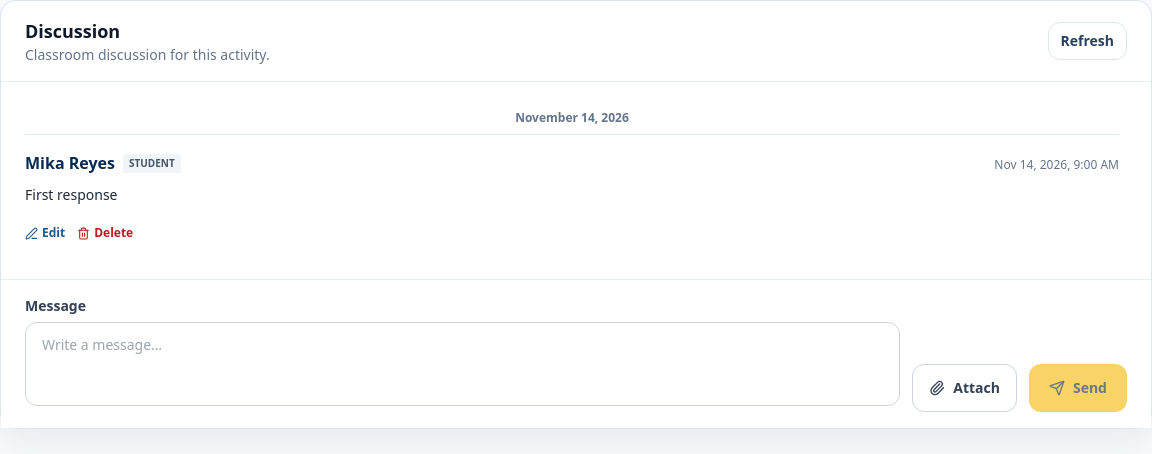
ActivityDiscussion › updates and removes messages only after the API confirms each action
Check: the text "First response" is shown, box [25,185,118,204]
Step 1. Click the button "Edit" → [45, 233], box [25,215,65,251]
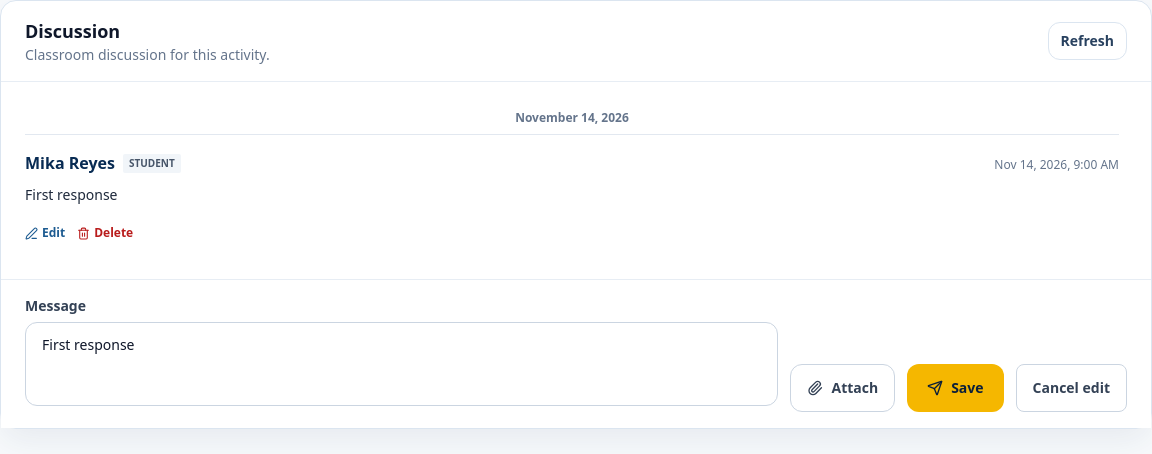
Step 2. Replace the text in the text box labelled "Message" with "Edited response" → [402, 364], box [25,322,778,406]
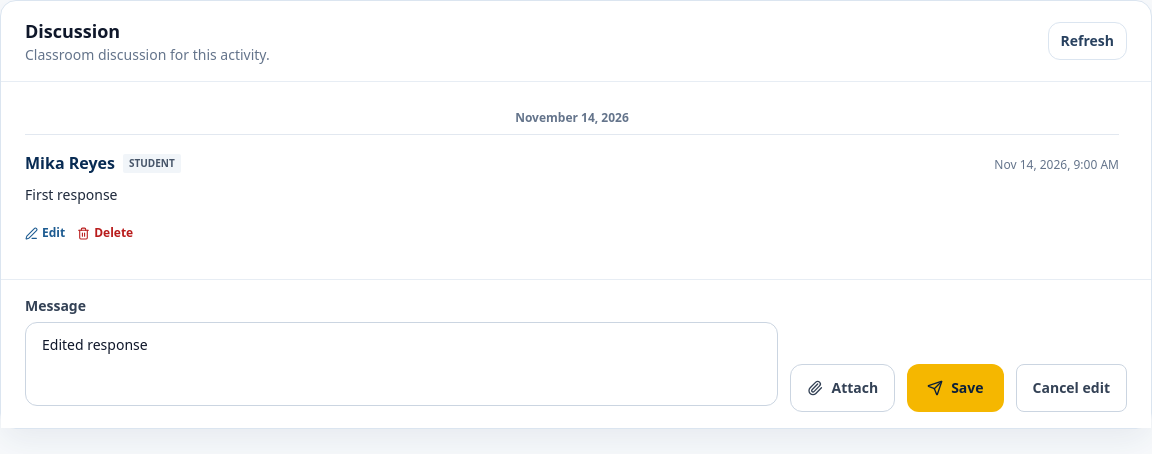
Step 3. Click the button "Save" → [955, 388], box [907,364,1004,412]
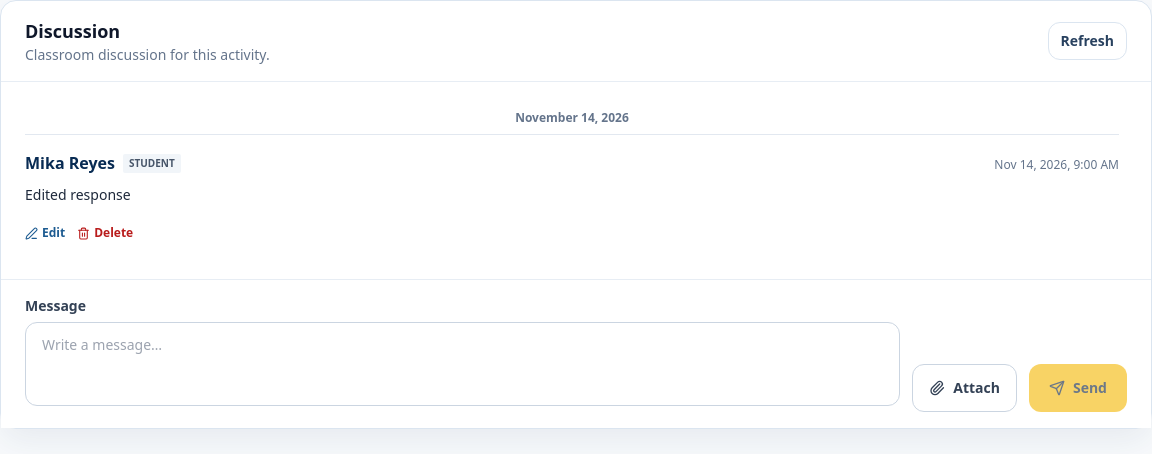
Check: the text box "Edited response" is shown, box [25,322,900,406]
Check: the text "First response" reads "Edited response", box [25,185,131,204]
Step 4. Click the button "Delete" → [105, 233], box [77,215,133,251]
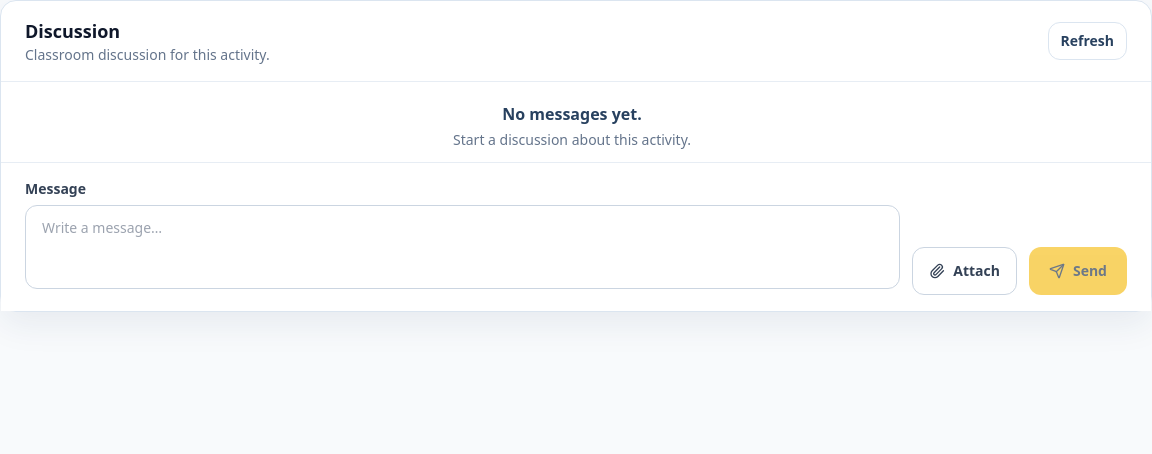
Check: the text "Edited response" is gone
